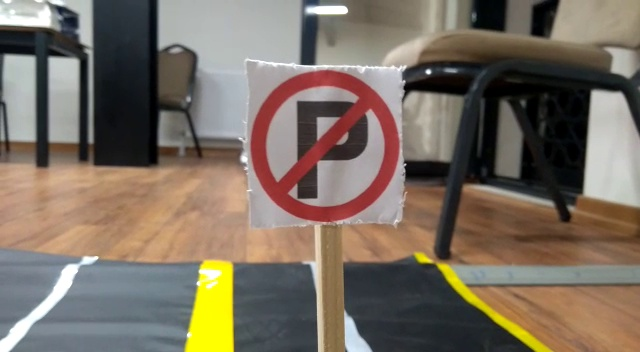park_yapilmaz: (246, 62, 402, 223)
